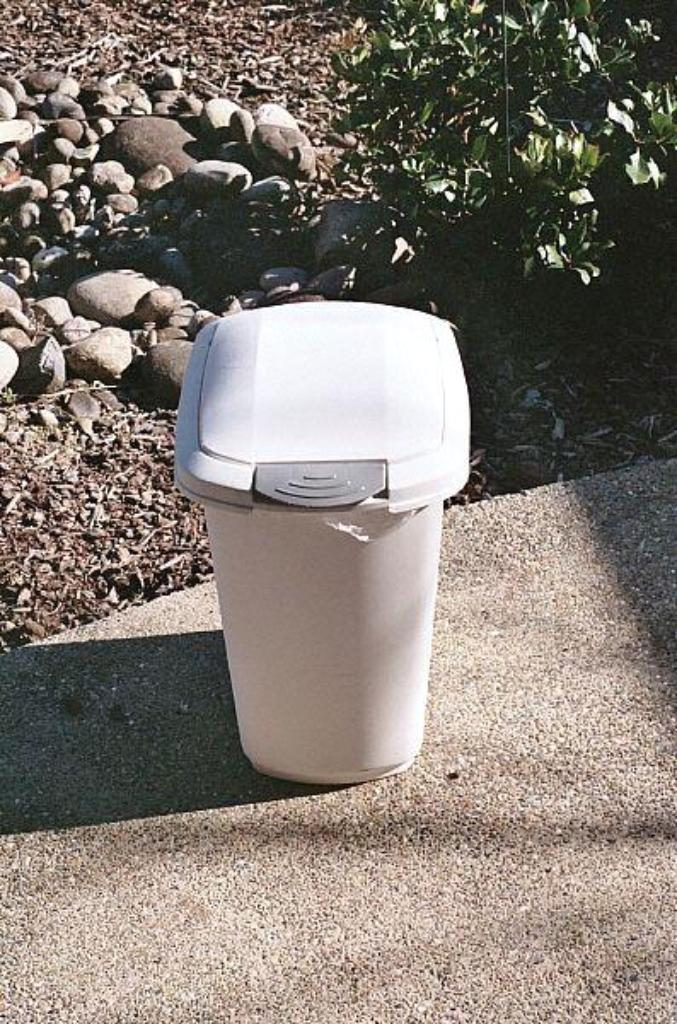dustbin: (174, 303, 487, 791)
